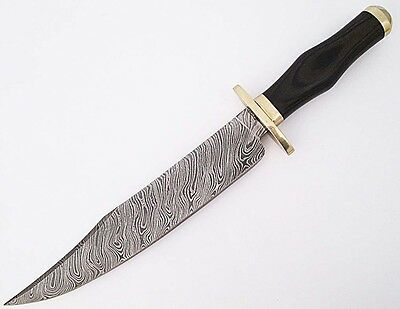knief: (3, 5, 400, 296)
